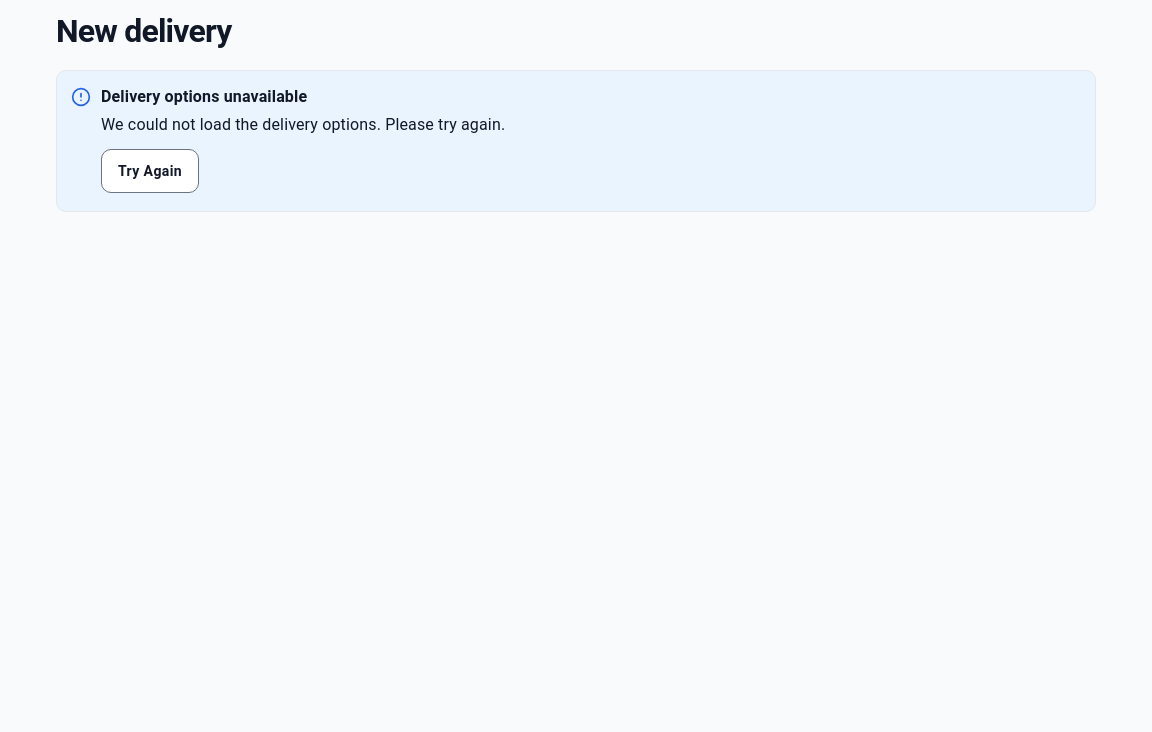
Scenario: TST-040 create parcel wizard › recovers from a reference-data failure
The width and height of the screenshot is (1152, 732).
Check: the heading "Delivery options unavailable" is shown, box [101, 87, 307, 106]
Click the button "Try Again": [150, 171] box [101, 149, 199, 193]
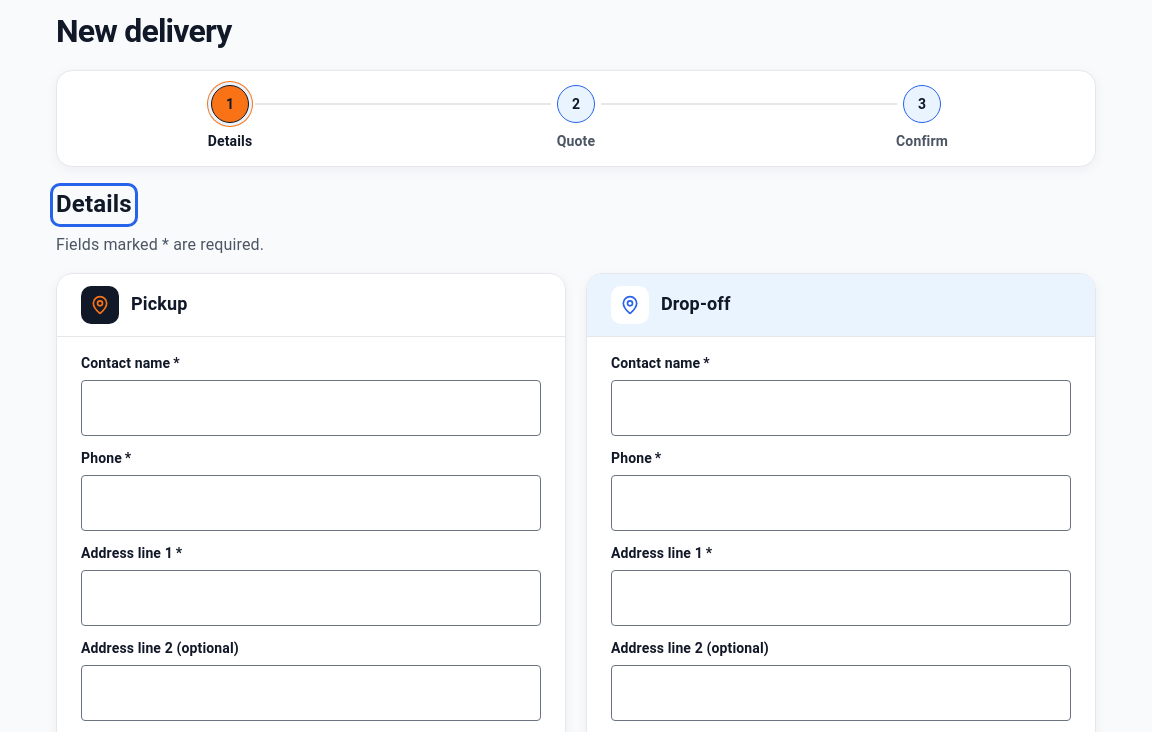
Check: the heading "Details" is shown, box [56, 189, 132, 221]
